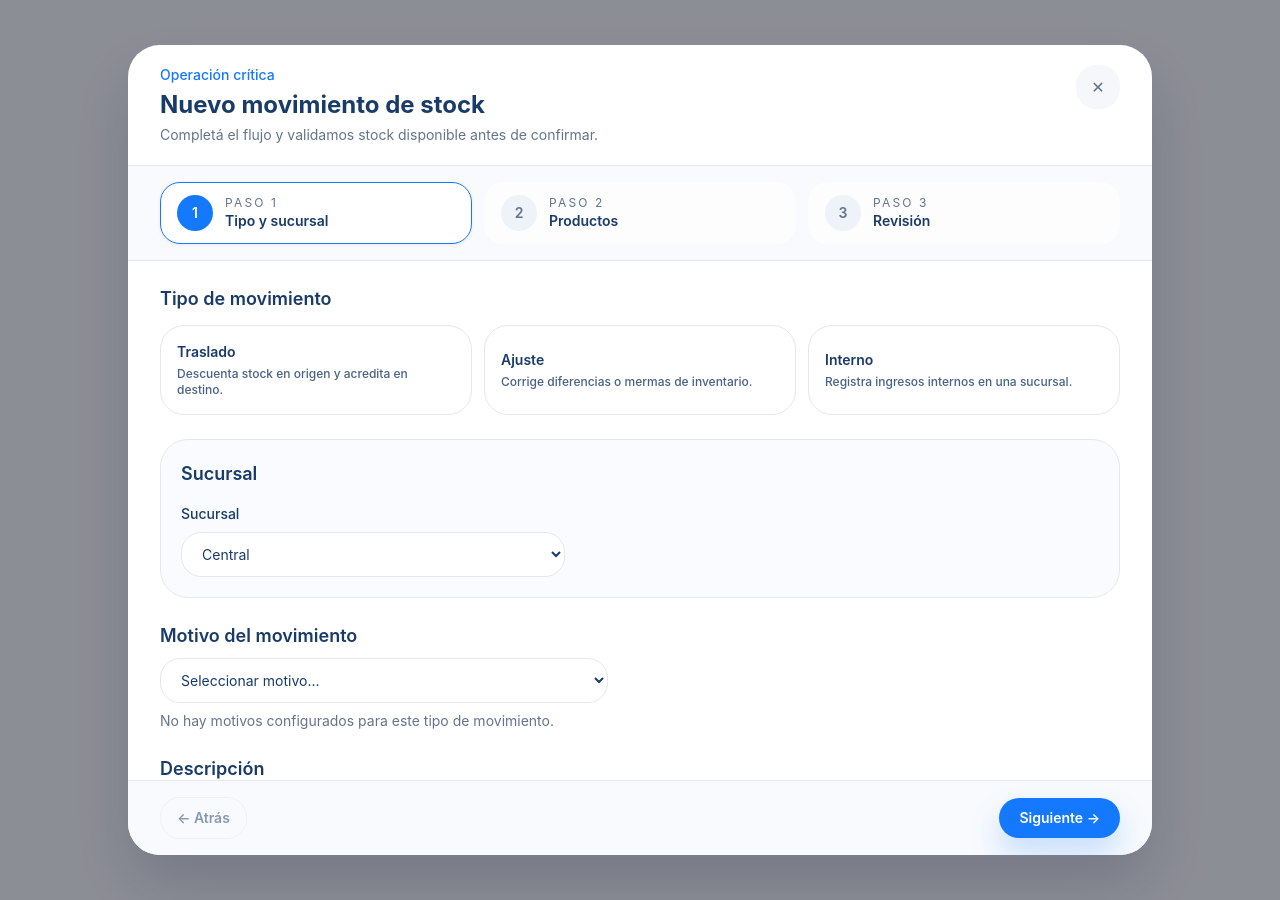
validateStep1 — navegación al paso 1 › muestra error y permanece en paso 0 si movement_type es null
The width and height of the screenshot is (1280, 900).
Click the button "Siguiente →". click: (1060, 818)
box: [999,798,1120,838]
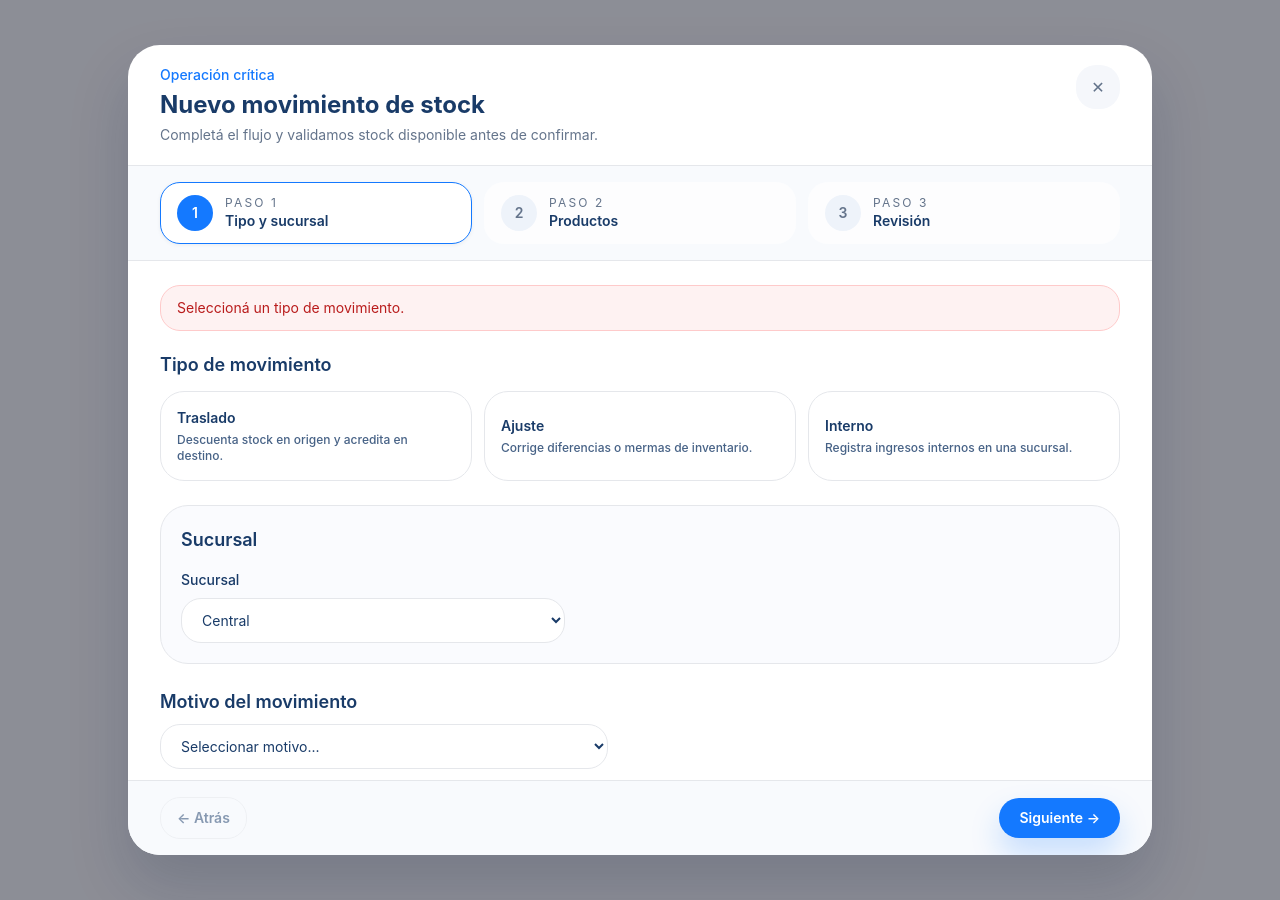
Result: the text "Seleccioná un tipo de movimiento" is shown at [177,299,404,316]
